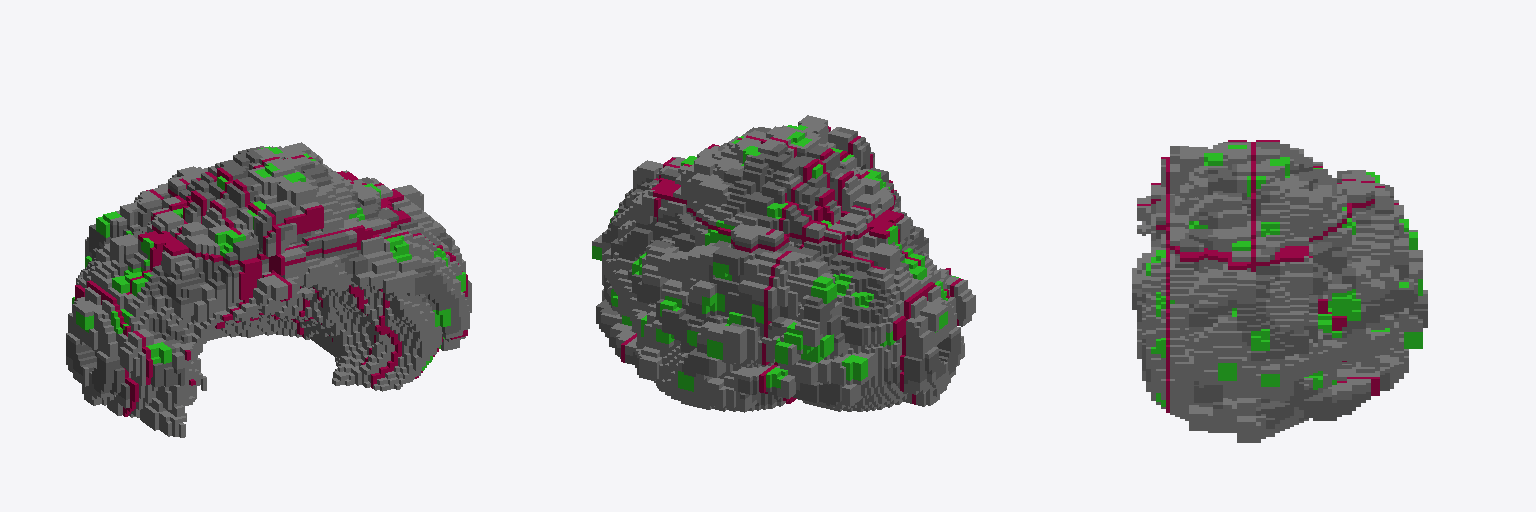
3 renders of one model, left to right at view 1: azimuth 30°, elevation 25°; view 2: azimuth 150°, elevation 25°; view 3: azimuth 270°, elevation 25°, orthographic.
Bounding box in the file's own units: 85 × 49 × 62.
1 materials, 1 textured.